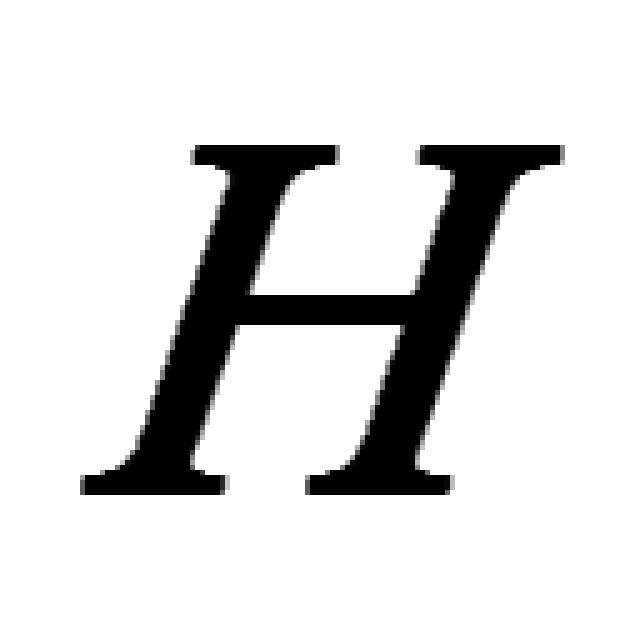H: (80, 145, 565, 495)
